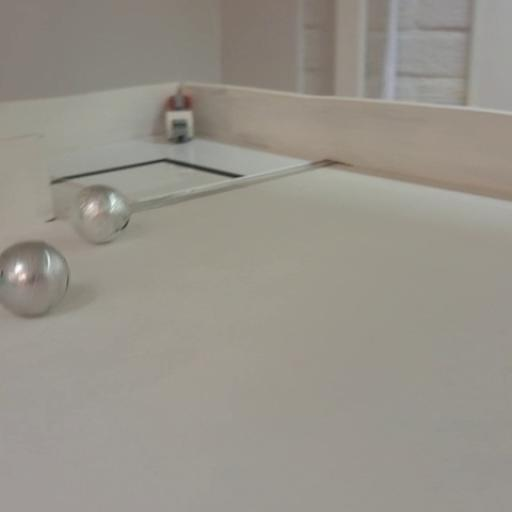alive: (0, 241, 71, 318), (69, 184, 133, 245)
